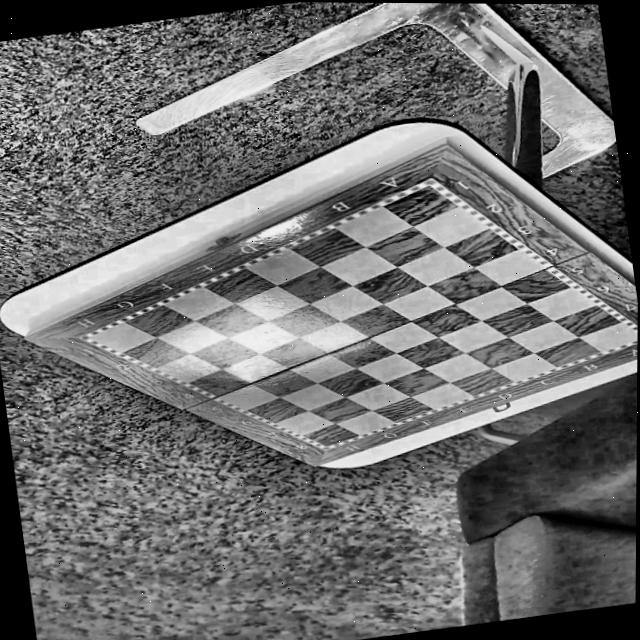chessboard: (89, 185, 638, 447)
